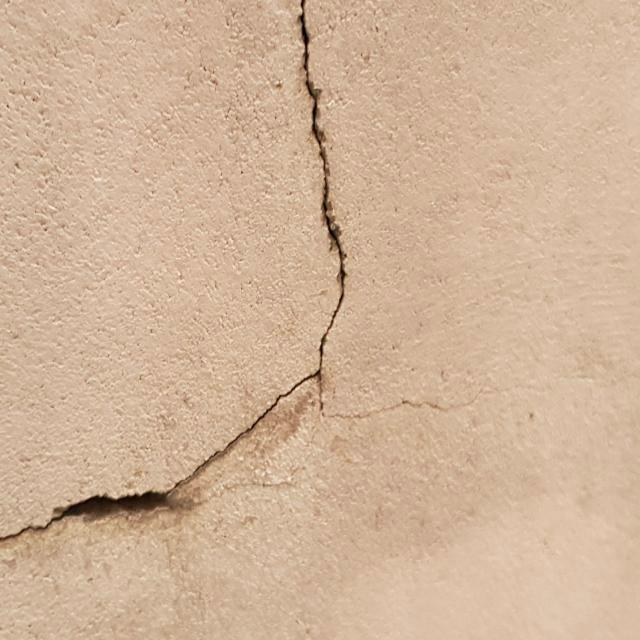SurfaceCrack: (1, 1, 386, 629)
